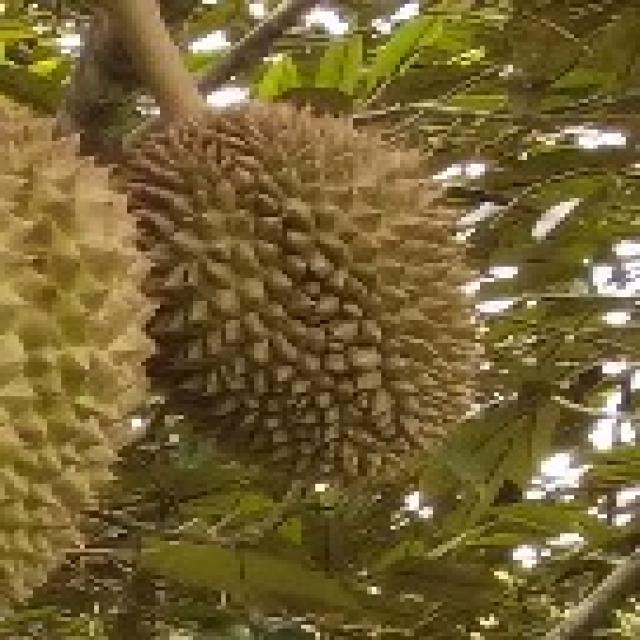mature: (114, 108, 476, 485)
